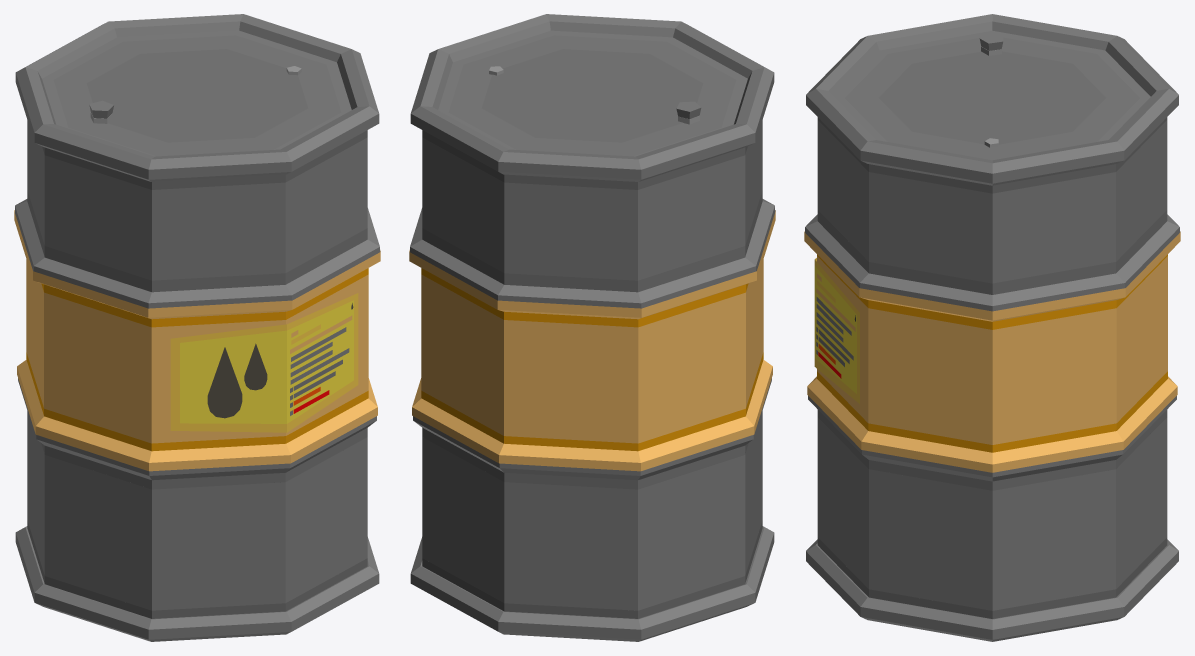
File: oil.glb
3 views of the same model, side by side, from view 1: azimuth 30°, elevation 25°; view 2: azimuth 150°, elevation 25°; view 3: azimuth 270°, elevation 25° (orthographic).
Visible parts, largest first — view 1: _MeshInstance3D_62; view 2: _MeshInstance3D_62; view 3: _MeshInstance3D_62.
Part boxes in pixels (x1=…): _MeshInstance3D_62: x1=14, y1=14, x2=380, y2=641; _MeshInstance3D_62: x1=409, y1=14, x2=775, y2=641; _MeshInstance3D_62: x1=804, y1=14, x2=1180, y2=641.
Bounding box in the file's own units: 0.7426 × 1.05 × 0.7426.
Materials: 35 (3 with a texture image).
